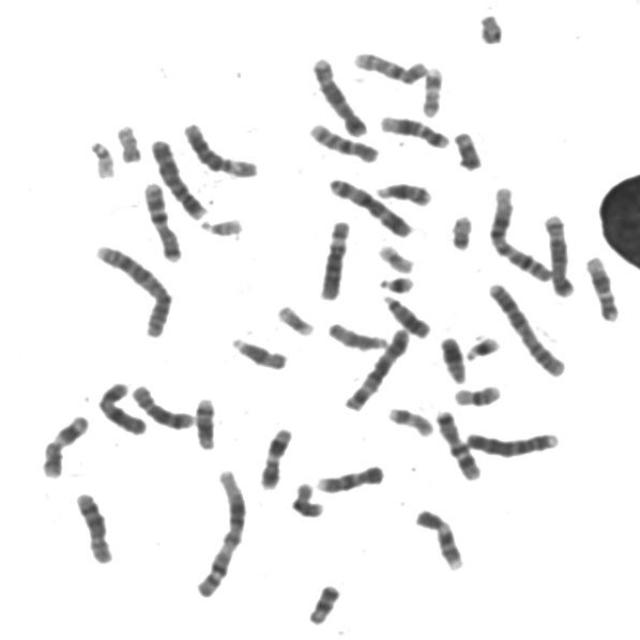A1: (190, 463, 250, 600), (485, 180, 556, 284)
A2: (90, 238, 176, 339), (484, 277, 569, 379)
A3: (340, 322, 413, 413), (324, 171, 416, 239)
B4: (146, 132, 210, 220), (460, 425, 563, 459)
B5: (307, 51, 370, 138), (539, 208, 578, 298)
C10: (304, 118, 383, 164), (349, 45, 432, 86)
C11: (38, 409, 93, 480), (256, 422, 295, 491)
C12: (376, 109, 452, 150), (582, 250, 623, 323)
C6: (179, 117, 262, 179), (314, 215, 354, 302)
C7: (431, 404, 485, 482), (138, 176, 185, 263)
C8: (127, 378, 198, 431), (70, 486, 116, 566)
C9: (411, 503, 468, 571), (312, 459, 388, 495)
D13: (378, 288, 433, 339), (436, 330, 470, 384)
D14: (372, 176, 436, 208), (192, 393, 220, 451)
D15: (227, 331, 291, 371), (323, 316, 392, 352)
E16: (287, 482, 328, 522), (450, 379, 505, 408)
E17: (383, 402, 438, 438), (418, 61, 447, 118)
E18: (304, 578, 345, 626), (449, 125, 486, 172)
F19: (272, 298, 319, 338), (374, 238, 418, 274)
F20: (112, 119, 146, 164), (445, 212, 475, 254)
G21: (461, 330, 504, 362), (374, 270, 418, 295)
G22: (85, 135, 118, 180), (195, 211, 246, 238)
X: (93, 376, 151, 436)
Y: (474, 8, 507, 46)
